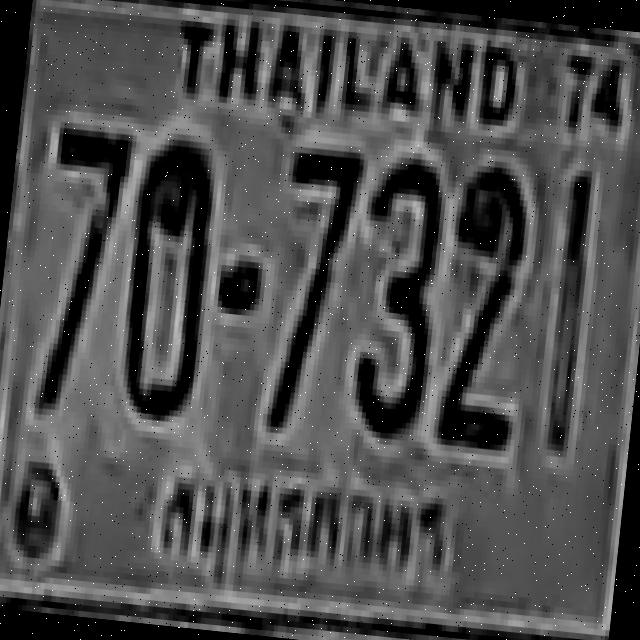0: (114, 130, 220, 418)
1: (538, 169, 596, 451)
2: (431, 154, 534, 448)
3: (344, 148, 446, 435)
7: (28, 121, 131, 414), (262, 140, 361, 432), (265, 140, 361, 402), (269, 139, 361, 367), (272, 140, 362, 332)
SamutSakhon: (144, 447, 456, 608)
